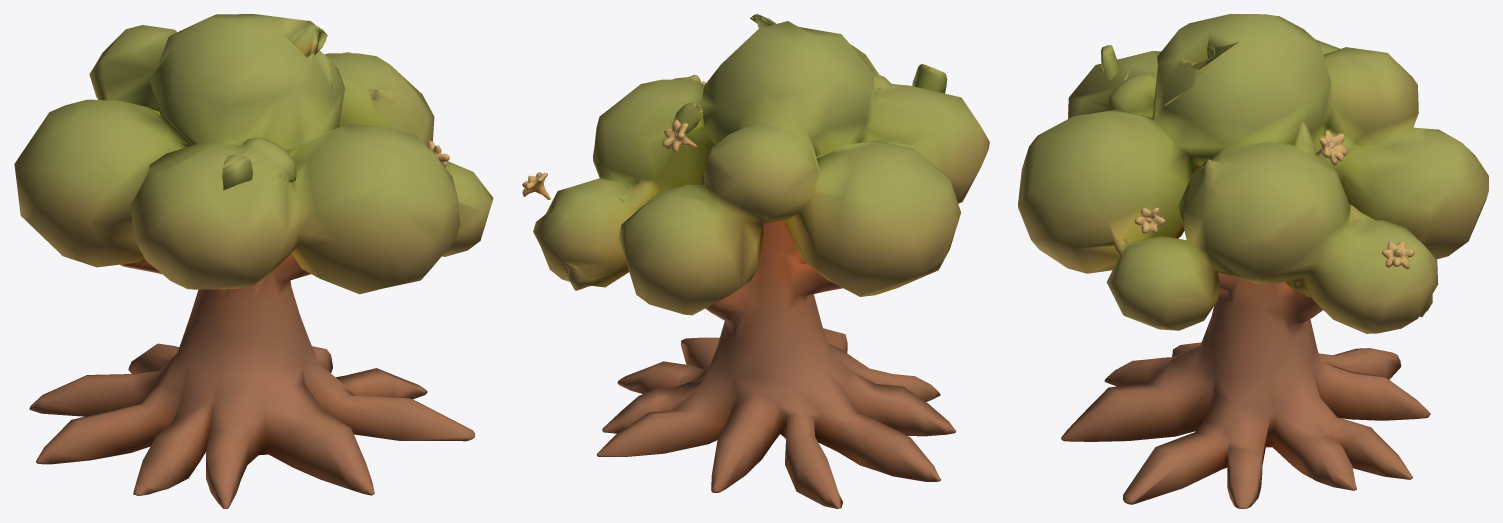
3 views of the same model, side by side, from view 1: azimuth 30°, elevation 25°; view 2: azimuth 150°, elevation 25°; view 3: azimuth 270°, elevation 25° (orthographic). The views are drawn at different scales.
Visible parts, largest first — view 1: tripo_node_4321daba-9b6e-4297-9ec4-9689856df9ea; view 2: tripo_node_4321daba-9b6e-4297-9ec4-9689856df9ea; view 3: tripo_node_4321daba-9b6e-4297-9ec4-9689856df9ea.
Boxes of the visible parts, <box> form: tripo_node_4321daba-9b6e-4297-9ec4-9689856df9ea: <box>14,14,493,508</box>; tripo_node_4321daba-9b6e-4297-9ec4-9689856df9ea: <box>522,14,989,508</box>; tripo_node_4321daba-9b6e-4297-9ec4-9689856df9ea: <box>1018,14,1488,508</box>.
Bounding box in the file's own units: 0.9434 × 0.9395 × 0.998.
1 material, 1 textured.
